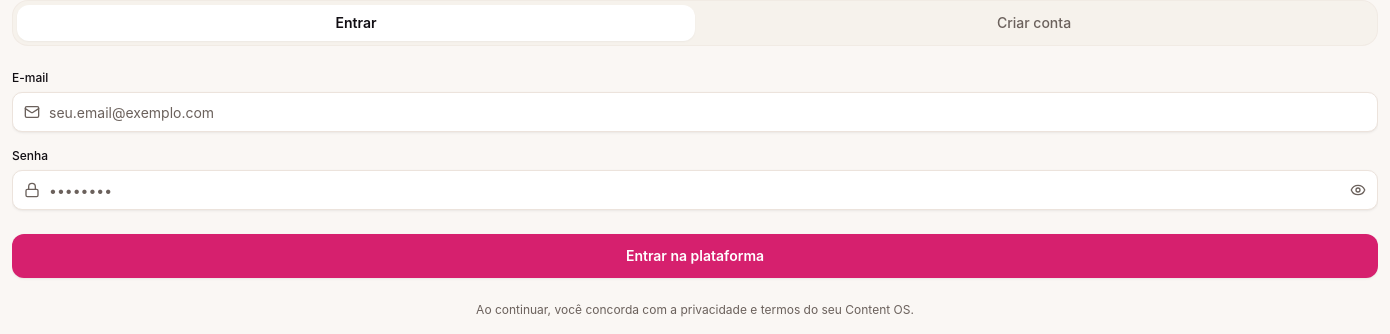
Scenario: LoginForm › alterna a visibilidade da senha ao clicar no botão de olho
This screenshot has width=1390, height=334.
Click the button named "Ver senha": (1358, 190) [1350,182,1366,198]
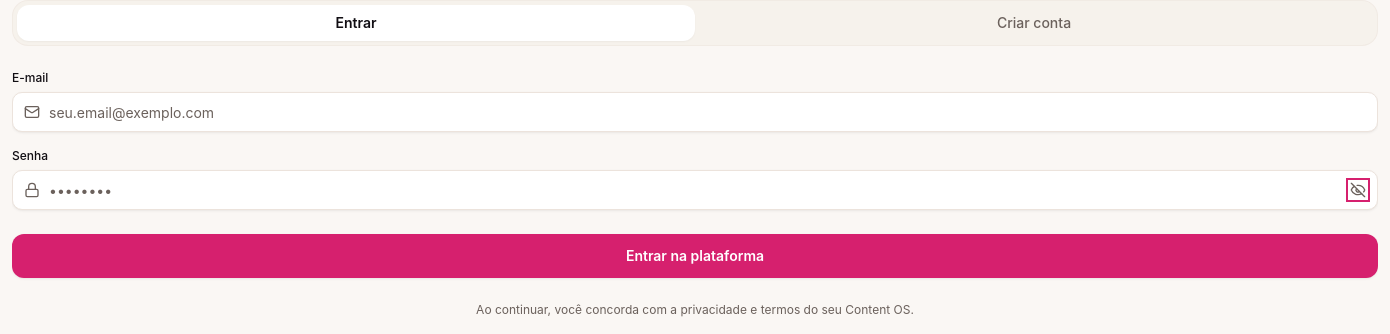
Now the button named "Ocultar senha" is shown, box [1350,182,1366,198]
